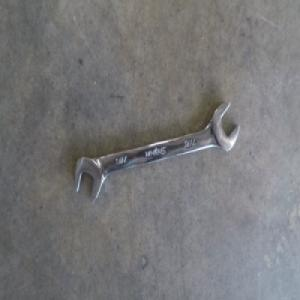Wrench: (77, 103, 237, 202)
